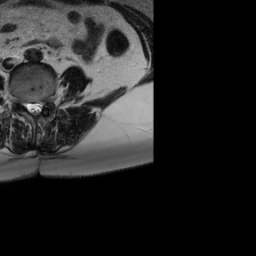CCS_normal: (32, 98, 38, 120)
LFS_stenosis: (43, 94, 51, 112)
LLS_normal: (37, 98, 43, 115)
RFS_normal: (18, 94, 25, 110)
RLS_normal: (24, 99, 32, 114)
